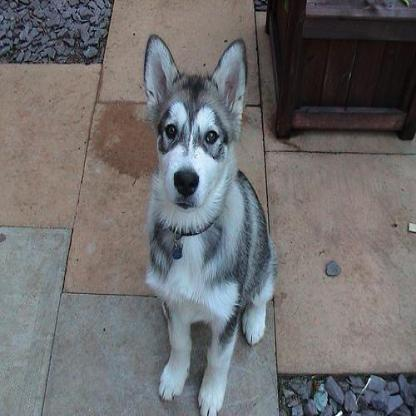malamute: (143, 32, 275, 414)
